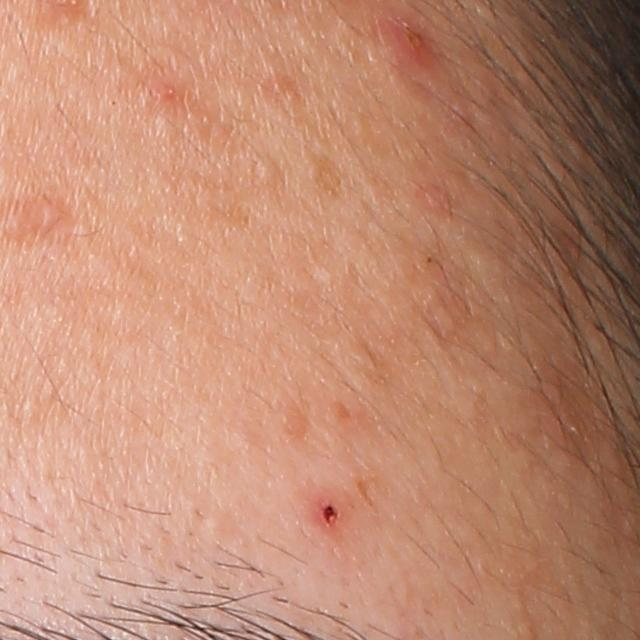papule: (387, 16, 437, 62)
